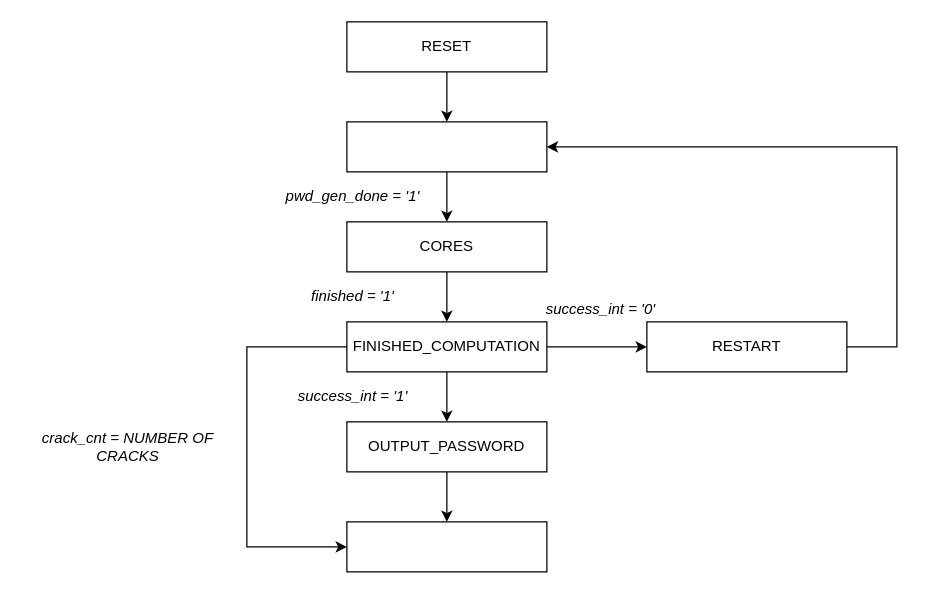
Some shapes in this 929 by 594 pixel diagram are drawn without their labels. The shapes that lost their labels are listed below. From the top down, each one's centre as x and y in pixels, then its label:
At (446,146): "INIT".
At (446,546): "TERMINATED".
